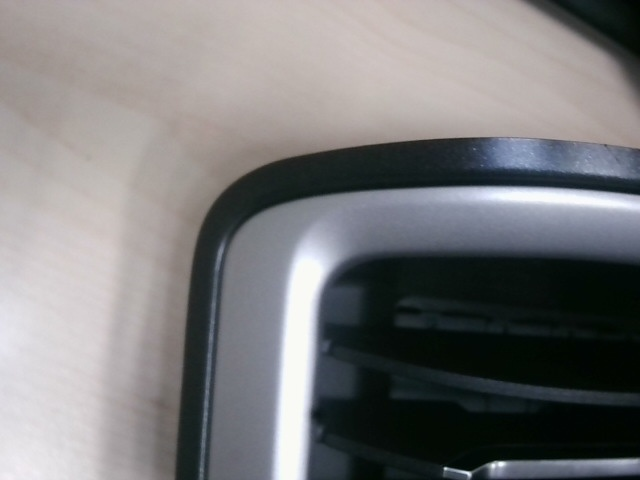NG: (596, 139, 624, 175)
